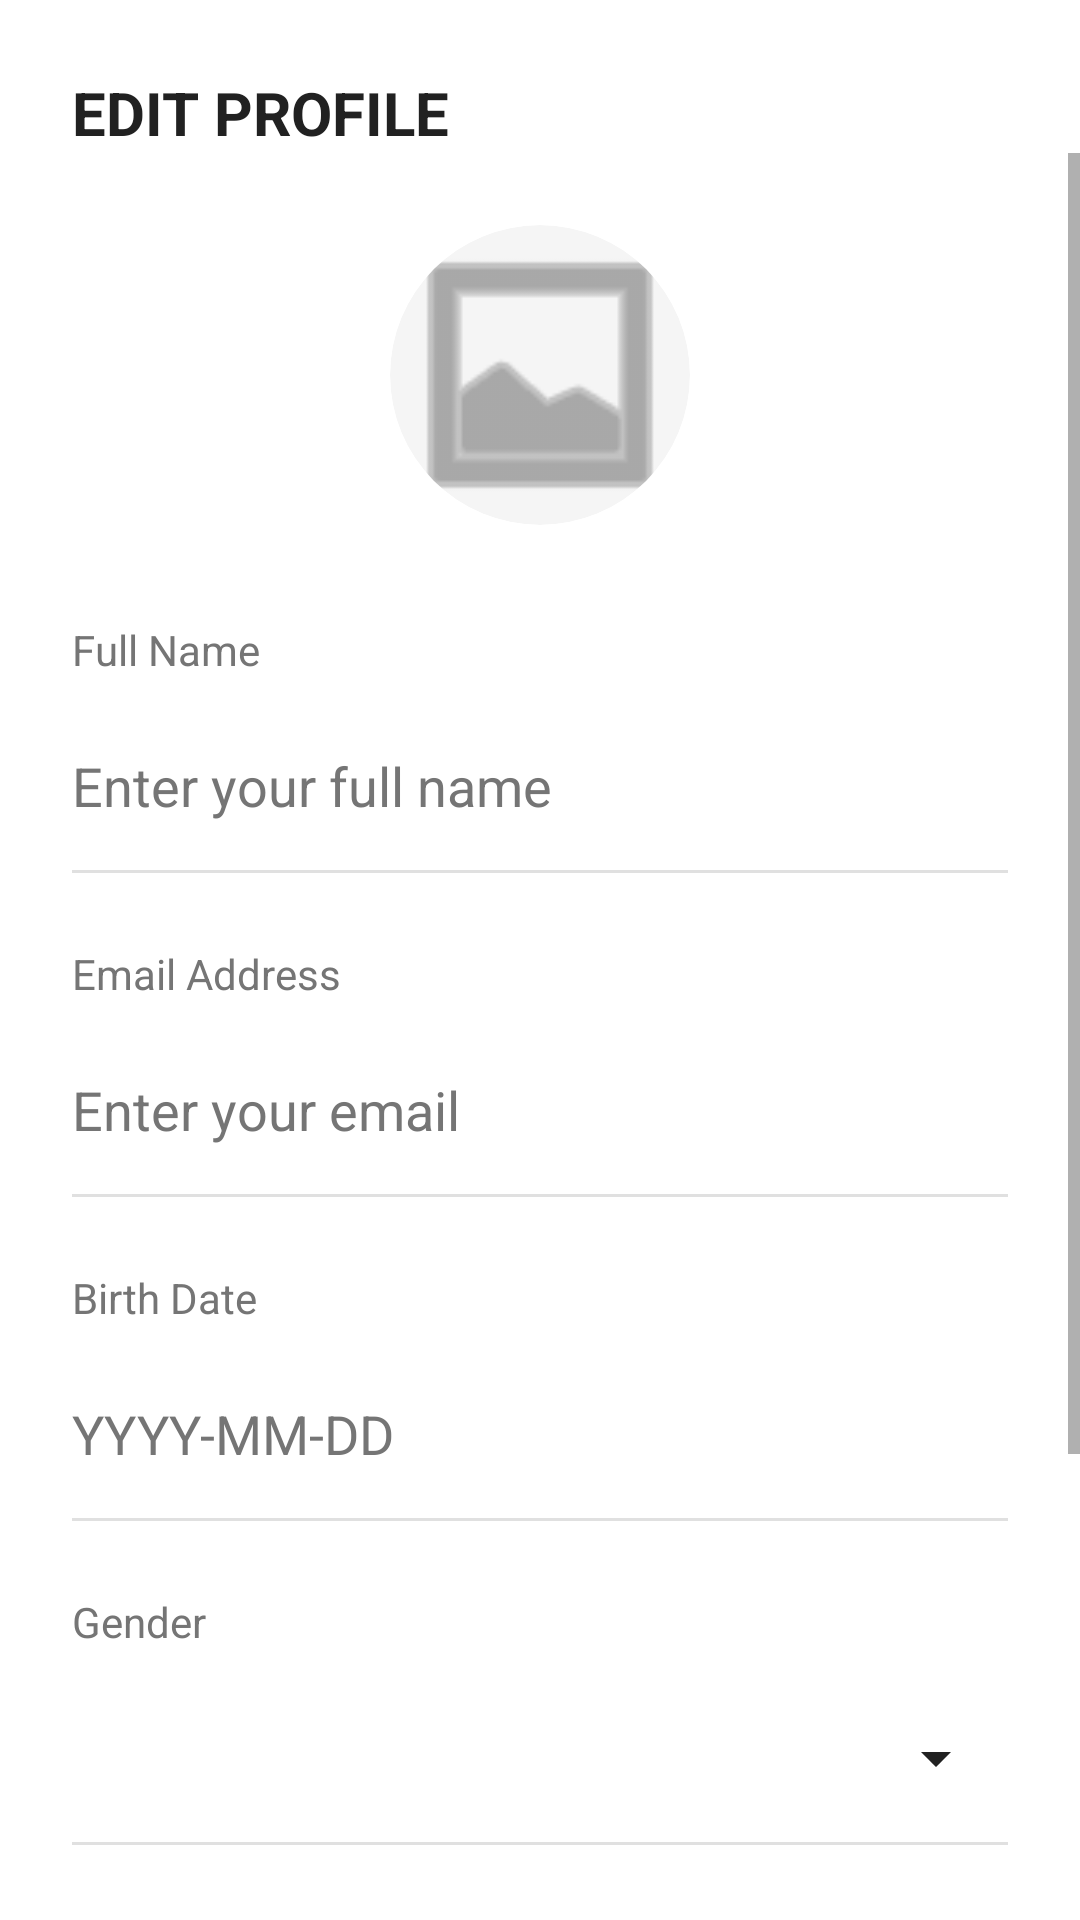

Named icons in this screenshot (1080 x 1920) and their centers, [x,y]:
gallery: [540,375]
